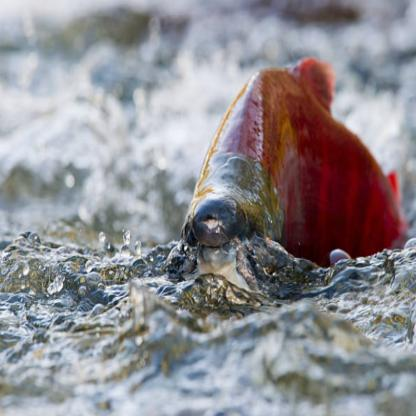sockeye: (178, 72, 412, 282)
